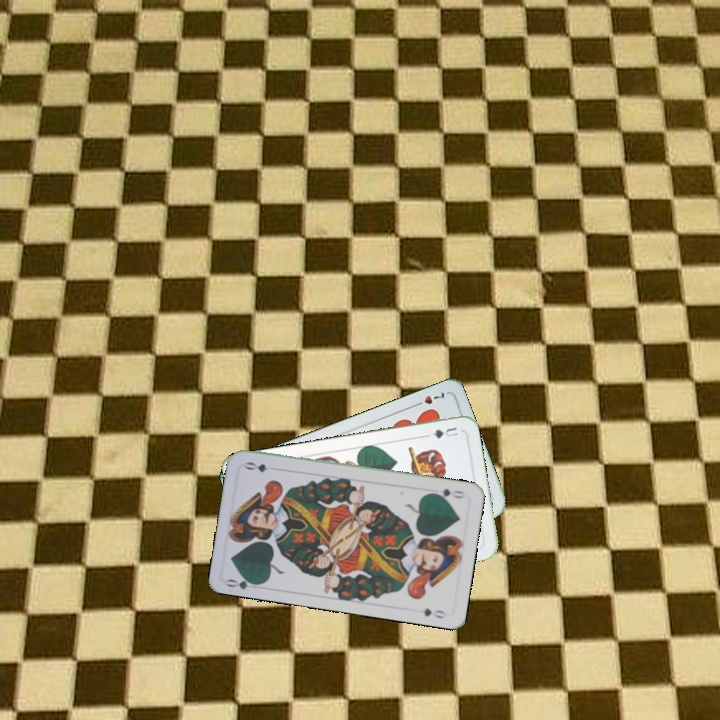GO: (222, 572, 264, 592), (428, 484, 467, 501)
GU: (429, 423, 461, 441)
H7: (409, 388, 447, 410)
